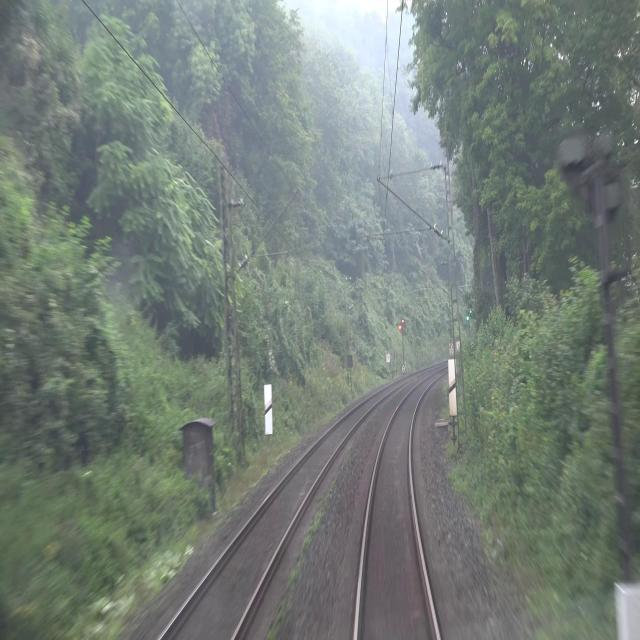rail-track: (163, 392, 384, 639), (359, 377, 436, 639)
